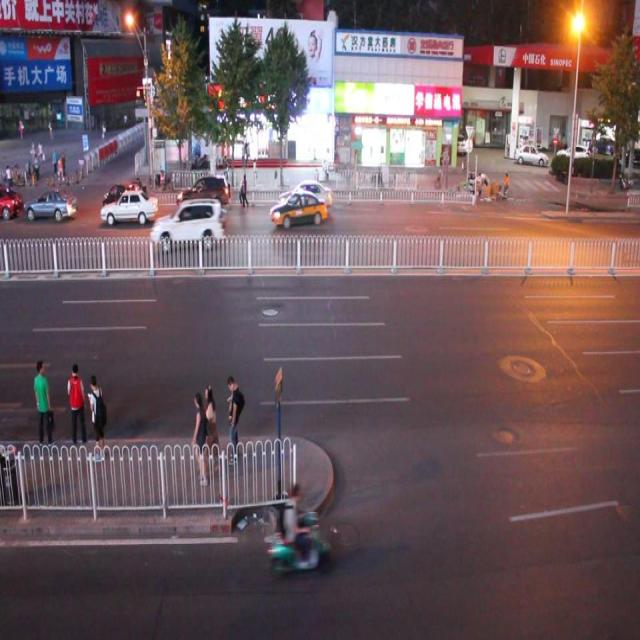car: (151, 198, 223, 248), (178, 174, 231, 211), (100, 190, 157, 224), (271, 193, 326, 225), (278, 180, 332, 212), (23, 191, 77, 220), (103, 180, 140, 212), (1, 183, 20, 222)
